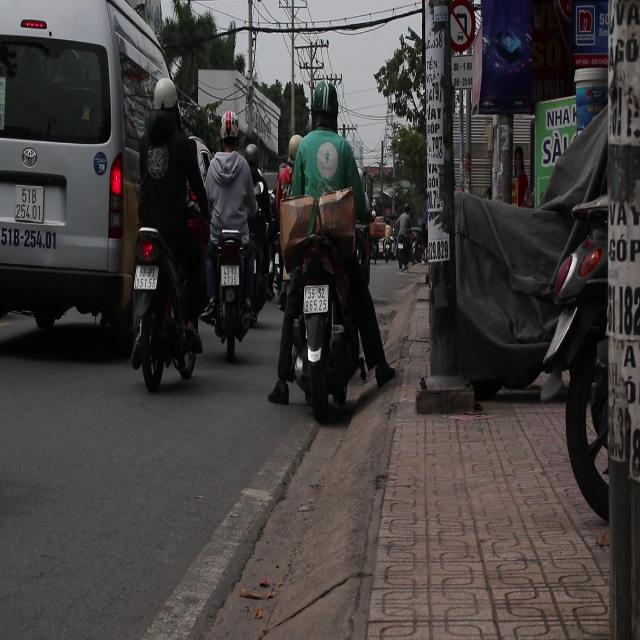car: (0, 0, 176, 378)
motorbike: (275, 235, 372, 420), (128, 218, 211, 400), (203, 192, 269, 365), (388, 212, 418, 273)
